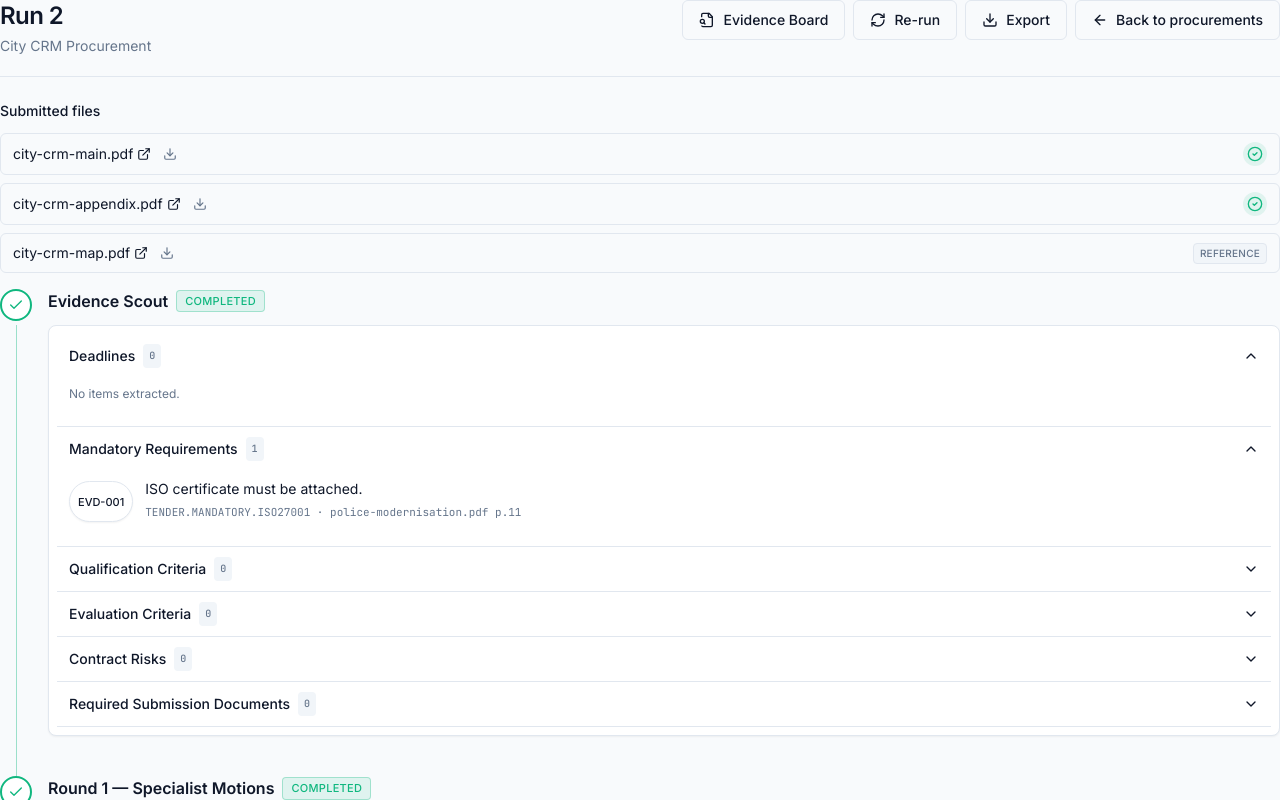
it: RunDetail › opens cited evidence in a source sidebar
The image size is (1280, 800).
Click the button with aria-label "Open source for EVD-001": (101, 502) top-left (69, 481), bottom-right (133, 522)
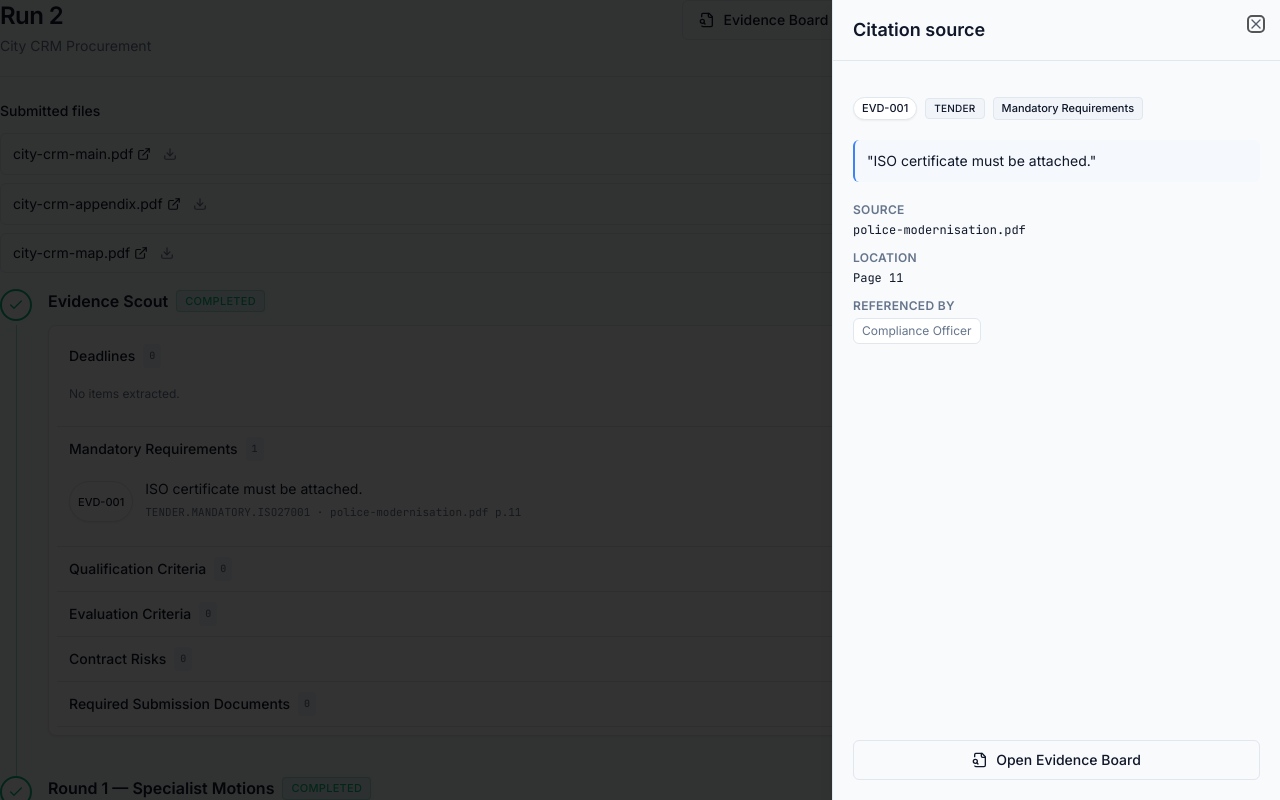
expect the text "\"ISO certificate must be attached.\"" is shown: met, box top-left (853, 140), bottom-right (1260, 182)
expect the text "police-modernisation.pdf" is shown: met, box top-left (853, 222), bottom-right (1026, 238)
expect the text "Page 11" is shown: met, box top-left (853, 270), bottom-right (903, 286)
